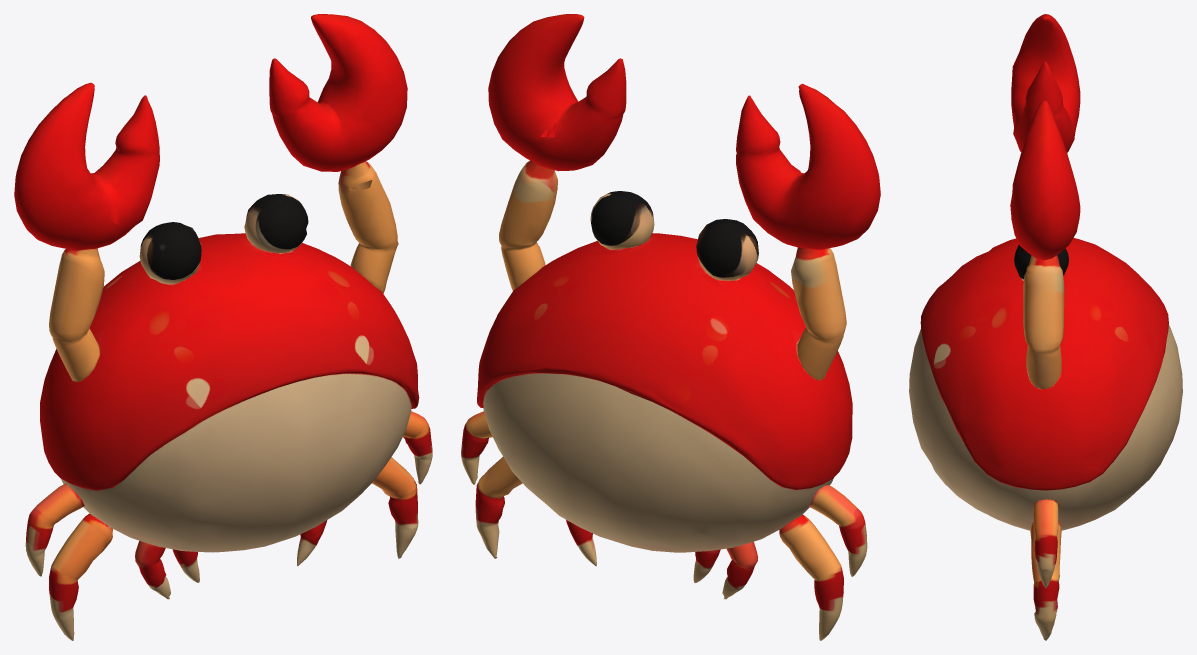
The model's file is crab.glb.
3 views of the same model, side by side, from view 1: azimuth 30°, elevation 25°; view 2: azimuth 150°, elevation 25°; view 3: azimuth 270°, elevation 25° (orthographic). The views are drawn at different scales.
Bounding box in the file's own units: 0.729 × 0.9521 × 0.4673.
Materials: 1 (1 with a texture image).
